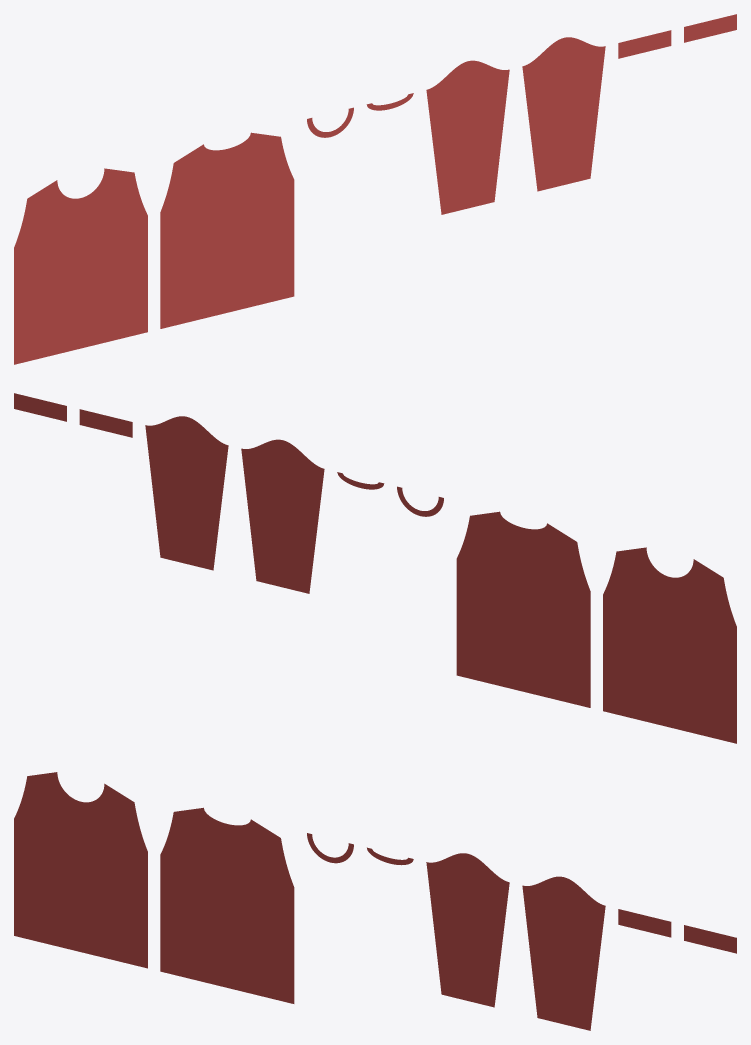
File: camisa-interior-cepillado-talla-S.glb
3 renders of one model, top to bottom at view 1: azimuth 30°, elevation 25°; view 2: azimuth 150°, elevation 25°; view 3: azimuth 330°, elevation 25°, orthographic.
Parts seen in each view (by area): view 1: patron-espalda, patron-delantero, patron-manga-der, patron-manga-izq, patron-puno-izq, patron-puno-der; view 2: patron-espalda, patron-delantero, patron-manga-der, patron-manga-izq, patron-puno-izq, patron-puno-der; view 3: patron-espalda, patron-delantero, patron-manga-der, patron-manga-izq, patron-puno-izq, patron-puno-der.
Boxes of the visible parts, x1,y1,x2,y2 form: patron-espalda: (160, 132, 294, 328); patron-delantero: (14, 168, 147, 364); patron-manga-der: (522, 37, 605, 191); patron-manga-izq: (426, 60, 509, 214); patron-puno-izq: (618, 30, 671, 58); patron-puno-der: (684, 14, 736, 42); patron-espalda: (456, 511, 590, 707); patron-delantero: (603, 547, 736, 743); patron-manga-der: (145, 416, 228, 570); patron-manga-izq: (241, 439, 324, 593); patron-puno-izq: (79, 409, 132, 437); patron-puno-der: (14, 393, 66, 421); patron-espalda: (160, 807, 294, 1003); patron-delantero: (14, 772, 147, 968); patron-manga-der: (522, 876, 605, 1030); patron-manga-izq: (426, 853, 509, 1007); patron-puno-izq: (618, 909, 671, 937); patron-puno-der: (684, 925, 736, 953).
Bounding box in the file's own units: 2.86 × 0.73 × 0.
